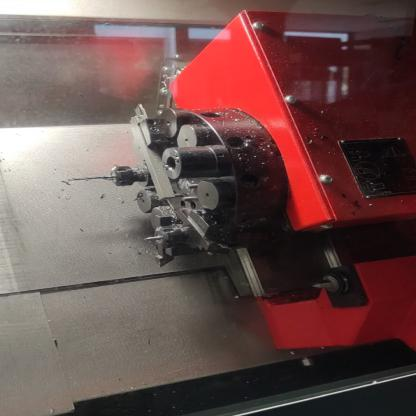bit: (125, 100, 183, 203), (170, 205, 241, 257), (150, 212, 193, 270)
